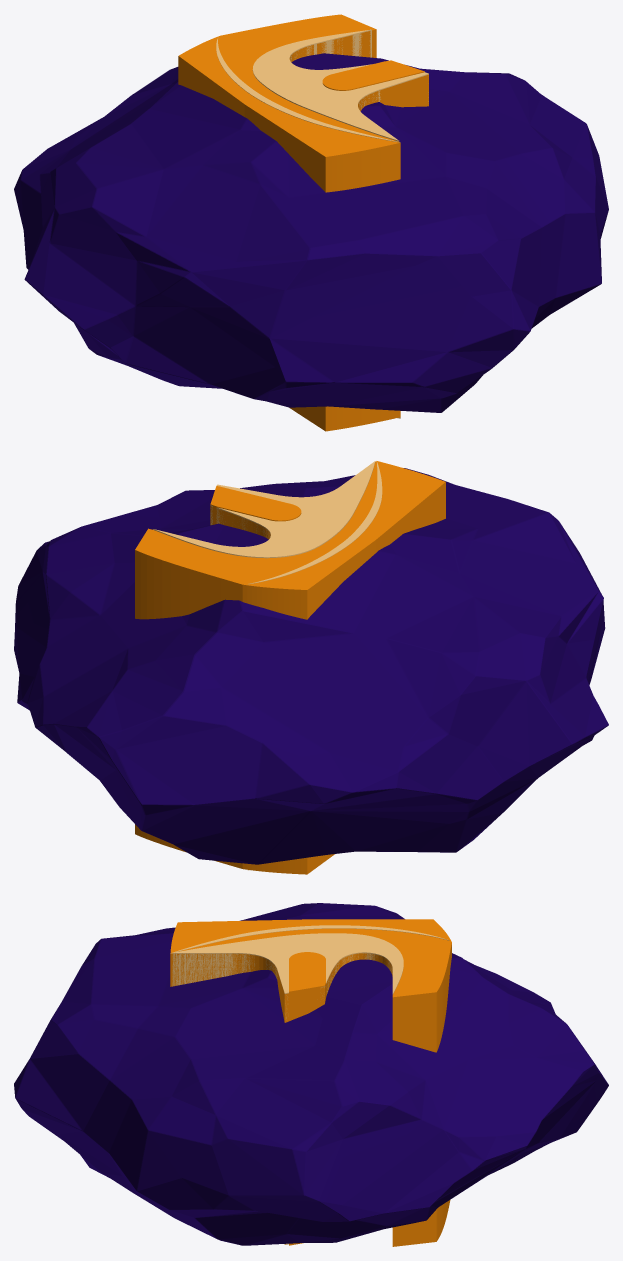
The model's file is fusion.glb.
3 views of the same model, one above another, from view 1: azimuth 30°, elevation 25°; view 2: azimuth 150°, elevation 25°; view 3: azimuth 270°, elevation 25° (orthographic). The views are drawn at different scales.
Visible parts, largest first — view 1: Cube.007, Curve, Curve.001, Curve.002, Curve.003; view 2: Cube.007, Curve, Curve.001, Curve.002, Curve.003; view 3: Cube.007, Curve, Curve.001, Curve.002, Curve.003.
Boxes of the visible parts, x1=… form: Cube.007: x1=14, y1=53, x2=608, y2=412; Curve: x1=178, y1=14, x2=428, y2=431; Curve.001: x1=252, y1=29, x2=428, y2=141; Curve.002: x1=322, y1=60, x2=424, y2=90; Curve.003: x1=216, y1=38, x2=400, y2=418; Cube.007: x1=14, y1=468, x2=608, y2=864; Curve: x1=135, y1=461, x2=445, y2=874; Curve.001: x1=153, y1=461, x2=375, y2=558; Curve.002: x1=210, y1=486, x2=301, y2=524; Curve.003: x1=248, y1=461, x2=382, y2=870; Cube.007: x1=14, y1=903, x2=608, y2=1245; Curve: x1=170, y1=919, x2=451, y2=1246; Curve.001: x1=172, y1=933, x2=403, y2=1244; Curve.002: x1=289, y1=952, x2=325, y2=1245; Curve.003: x1=170, y1=925, x2=449, y2=953.
Bounding box in the file's own units: 2 × 0.9605 × 2.04.
